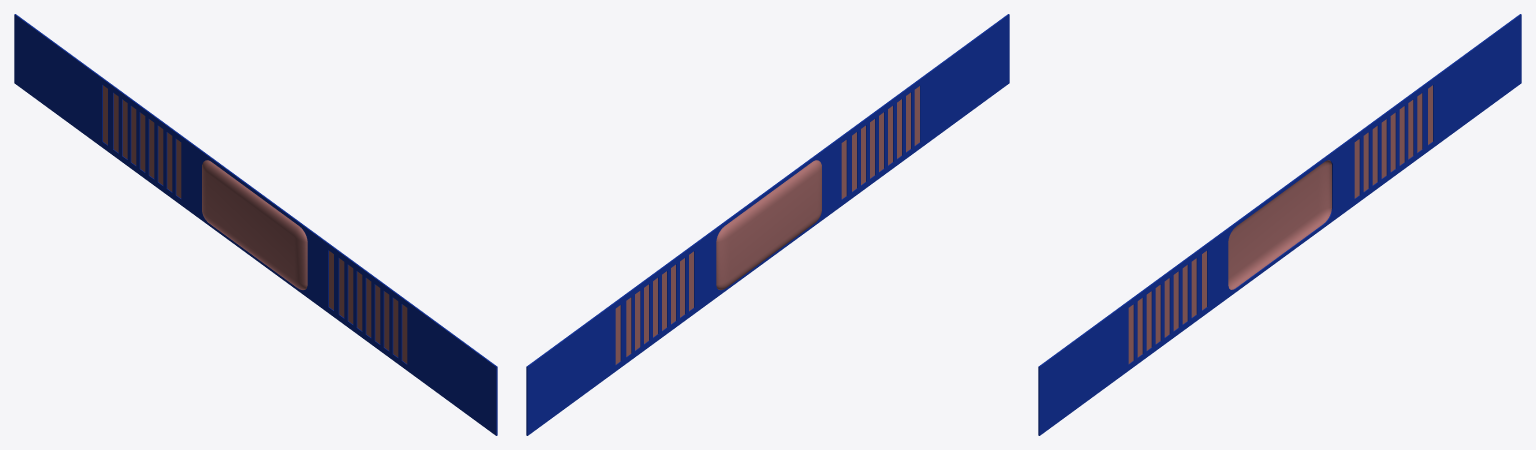
Rendered from 5X63 Lotsawindows.FBX.
3 views of the same model, side by side, from view 1: azimuth 30°, elevation 25°; view 2: azimuth 150°, elevation 25°; view 3: azimuth 330°, elevation 25° (orthographic).
Parts seen in each view (by area): view 1: Box040; view 2: Box040; view 3: Box040.
Part boxes in pixels (bbox=[...]): Box040: bbox=[14, 14, 497, 435]; Box040: bbox=[526, 14, 1009, 435]; Box040: bbox=[1038, 14, 1521, 435].
Size of the model in its own units: 0.4694 by 5 by 63.27.
